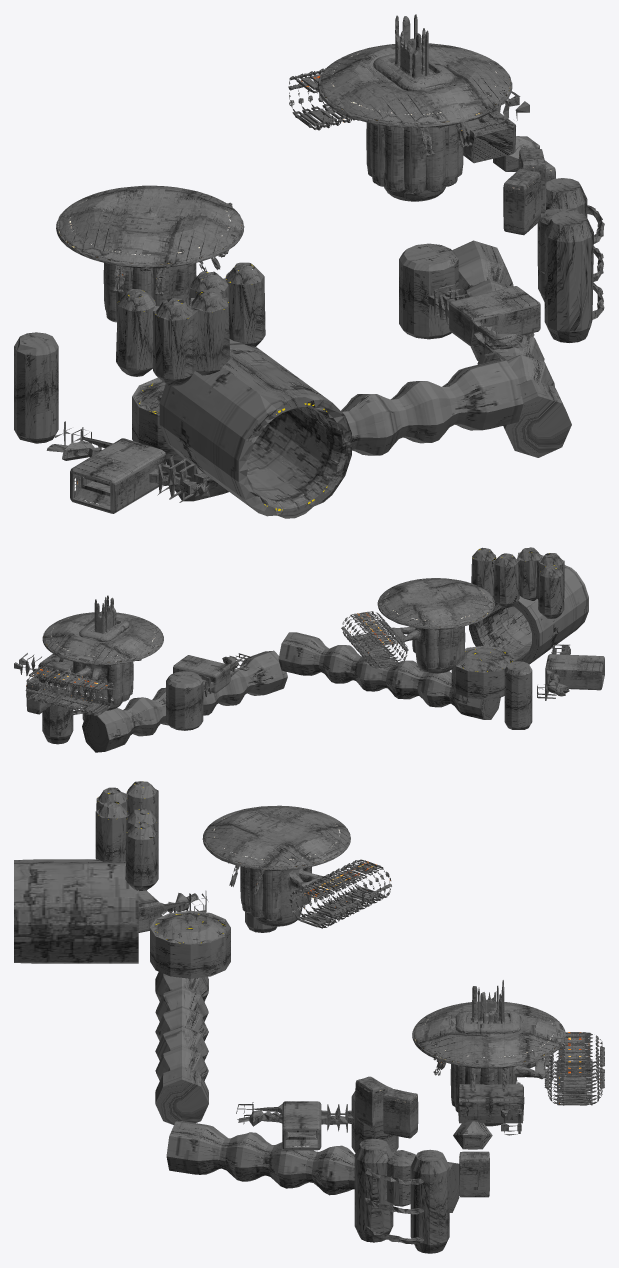
The model's file is drift.glb.
The picture shows the model from 3 angles, top to bottom: view 1: azimuth 30°, elevation 25°; view 2: azimuth 150°, elevation 25°; view 3: azimuth 270°, elevation 25°; orthographic projection. The views are drawn at different scales.
Parts seen in each view (by area): view 1: drift; view 2: drift; view 3: drift.
Part boxes in pixels (x1,y1,x2,y2): drift: [14, 14, 604, 518]; drift: [14, 547, 604, 752]; drift: [14, 781, 604, 1253].
Bounding box in the file's own units: 230 × 91.48 × 212.
Materials: 8 (5 with a texture image).
